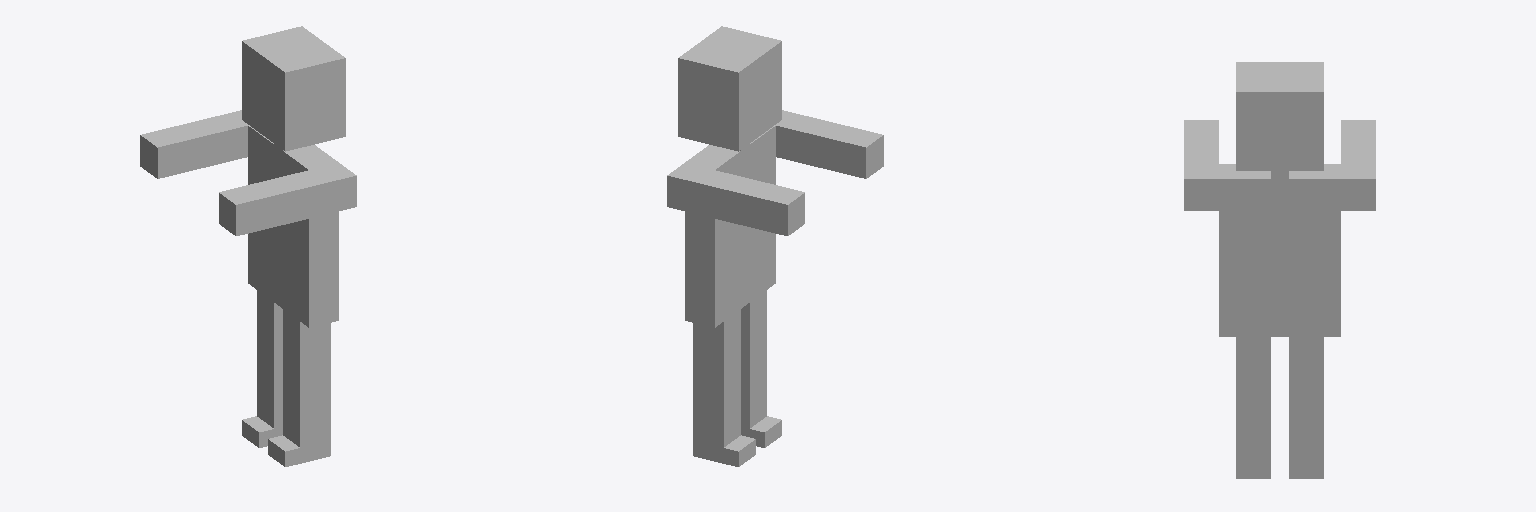
Rendered from zombi.obj.
3 renders of one model, left to right at view 1: azimuth 30°, elevation 25°; view 2: azimuth 150°, elevation 25°; view 3: azimuth 270°, elevation 25°, orthographic.
Visible parts, largest first — view 1: object 1; view 2: object 1; view 3: object 1.
Part boxes in pixels (bbox=[...]): object 1: bbox=[140, 26, 356, 466]; object 1: bbox=[667, 26, 883, 466]; object 1: bbox=[1184, 62, 1375, 478].
Size of the model in its own units: 0.9 by 2.5 by 1.1.